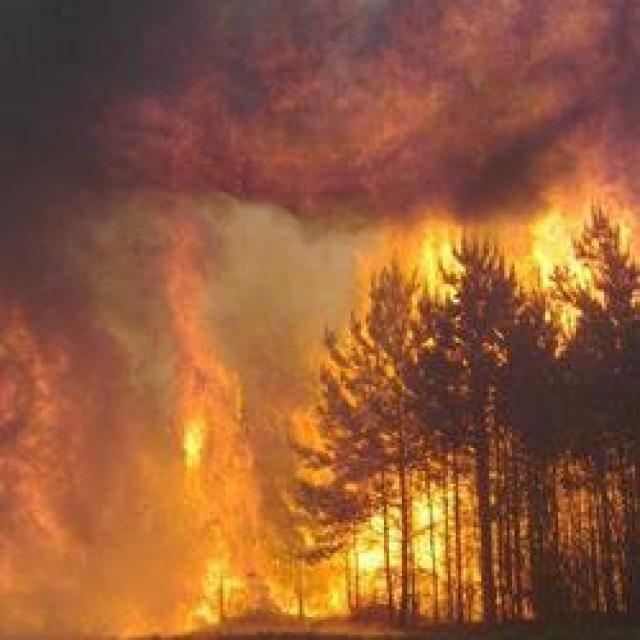fire: (311, 193, 639, 640), (144, 329, 286, 638)
